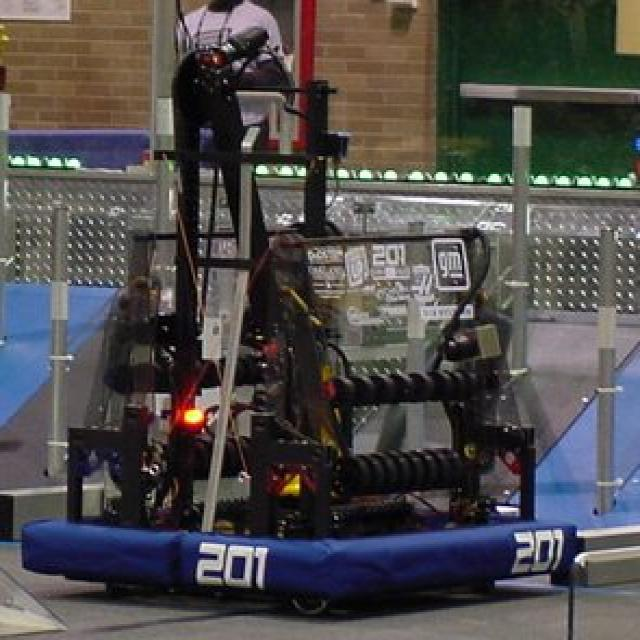robot: (7, 7, 625, 640)
